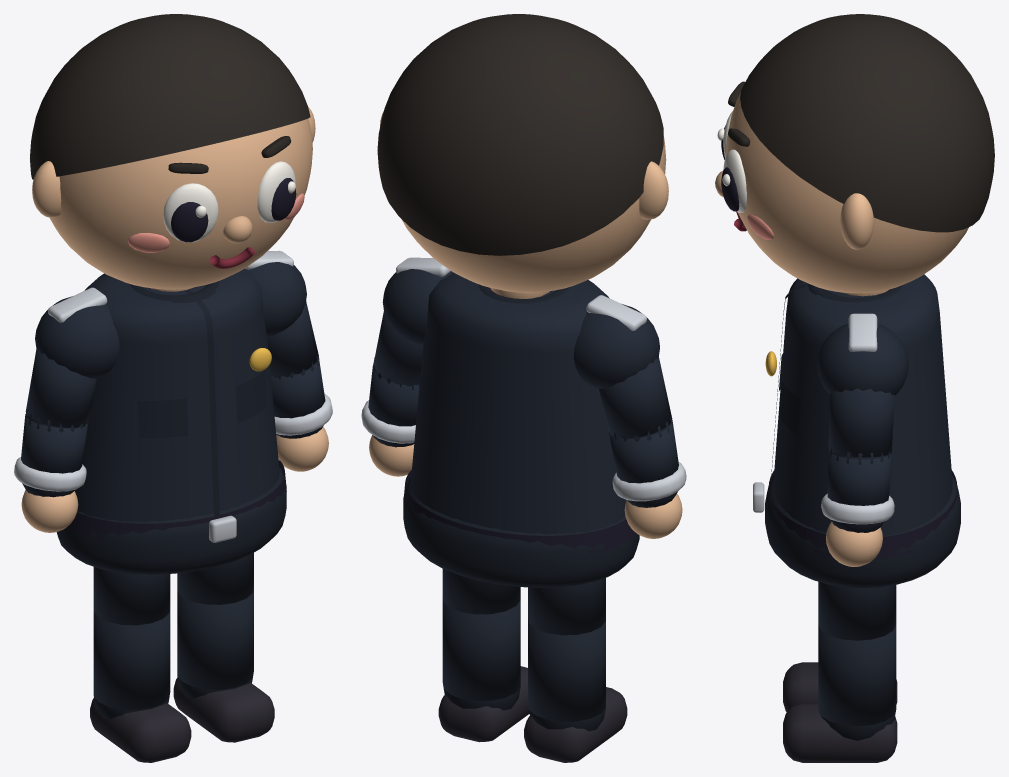
Rendered from ch_guard.fbx.
The picture shows the model from 3 angles, left to right: view 1: azimuth 30°, elevation 25°; view 2: azimuth 150°, elevation 25°; view 3: azimuth 270°, elevation 25°; orthographic projection.
Visible parts, largest first — view 1: ch_guard; view 2: ch_guard; view 3: ch_guard.
Part boxes in pixels (x1,y1,x2,y2): ch_guard: (14, 14, 332, 762); ch_guard: (361, 14, 686, 762); ch_guard: (715, 14, 994, 762).
Bounding box in the file's own units: 0.729 × 1.58 × 0.5679.
